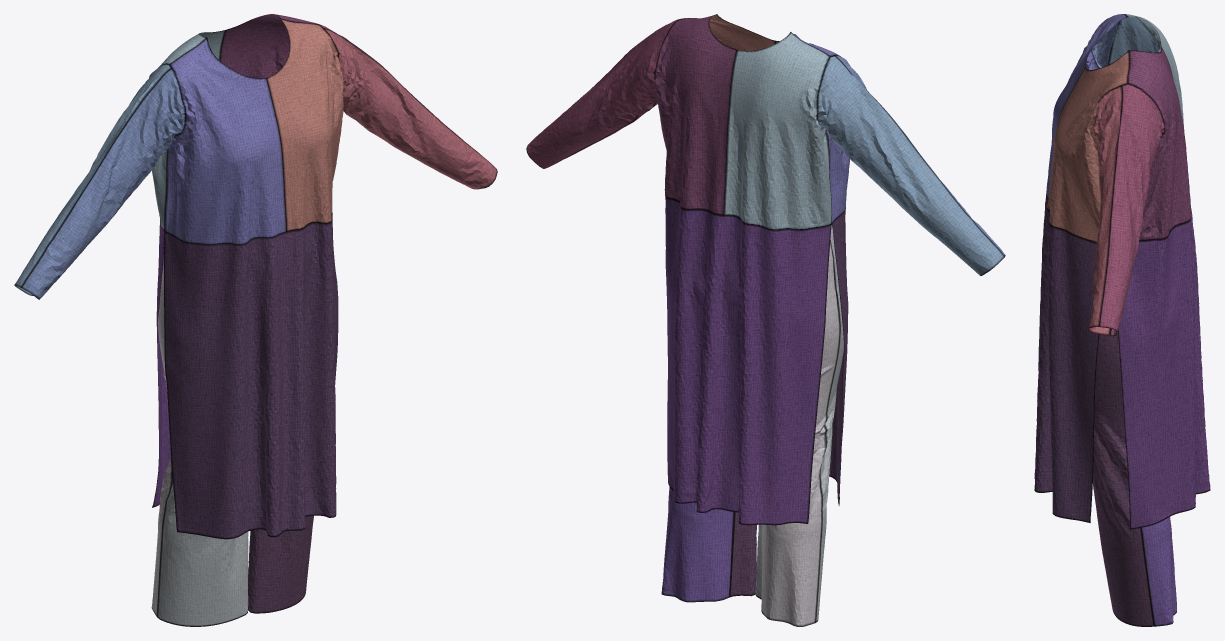
File: ao_dai_sim.obj
The picture shows the model from 3 angles, left to right: view 1: azimuth 30°, elevation 25°; view 2: azimuth 150°, elevation 25°; view 3: azimuth 270°, elevation 25°; orthographic projection. The views are drawn at different scales.
Bounding box in the file's own units: 113 × 132 × 37.45.
1 material, 1 textured.
